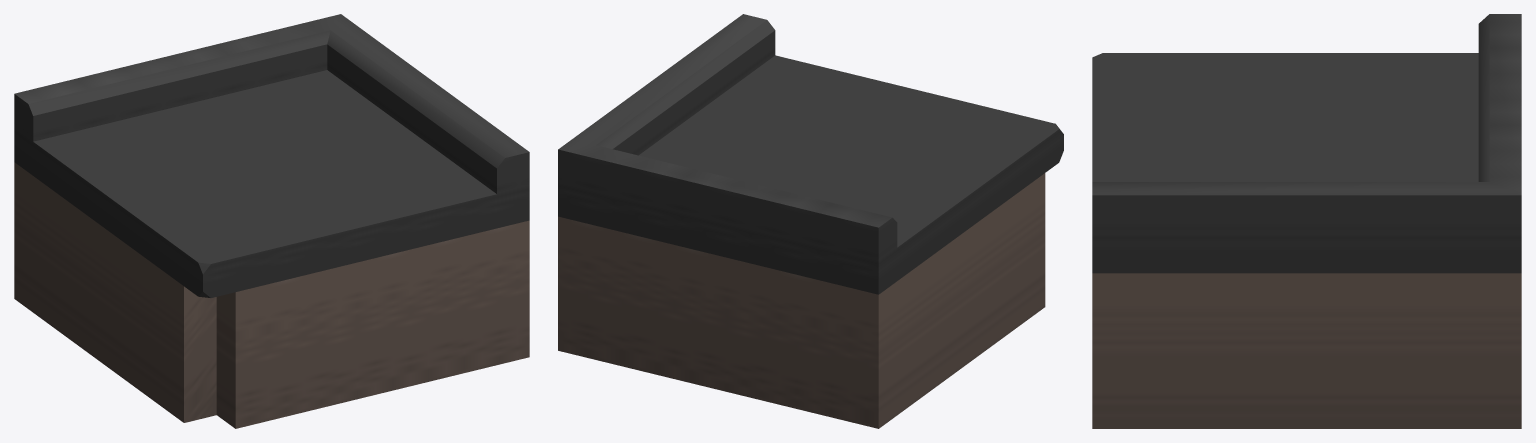
File: kitchencounter_innercorner_backsplash_styleB.gltf
3 views of the same model, side by side, from view 1: azimuth 30°, elevation 25°; view 2: azimuth 150°, elevation 25°; view 3: azimuth 270°, elevation 25° (orthographic). The views are drawn at different scales.
Parts seen in each view (by area): view 1: kitchencounter_innercorner_backsplash_styleB; view 2: kitchencounter_innercorner_backsplash_styleB; view 3: kitchencounter_innercorner_backsplash_styleB.
Part boxes in pixels (x1=…): kitchencounter_innercorner_backsplash_styleB: x1=14, y1=14, x2=529, y2=428; kitchencounter_innercorner_backsplash_styleB: x1=558, y1=14, x2=1063, y2=428; kitchencounter_innercorner_backsplash_styleB: x1=1092, y1=14, x2=1521, y2=428.
Size of the model in its own units: 2 by 1.2 by 2.
Materials: 1 (1 with a texture image).
